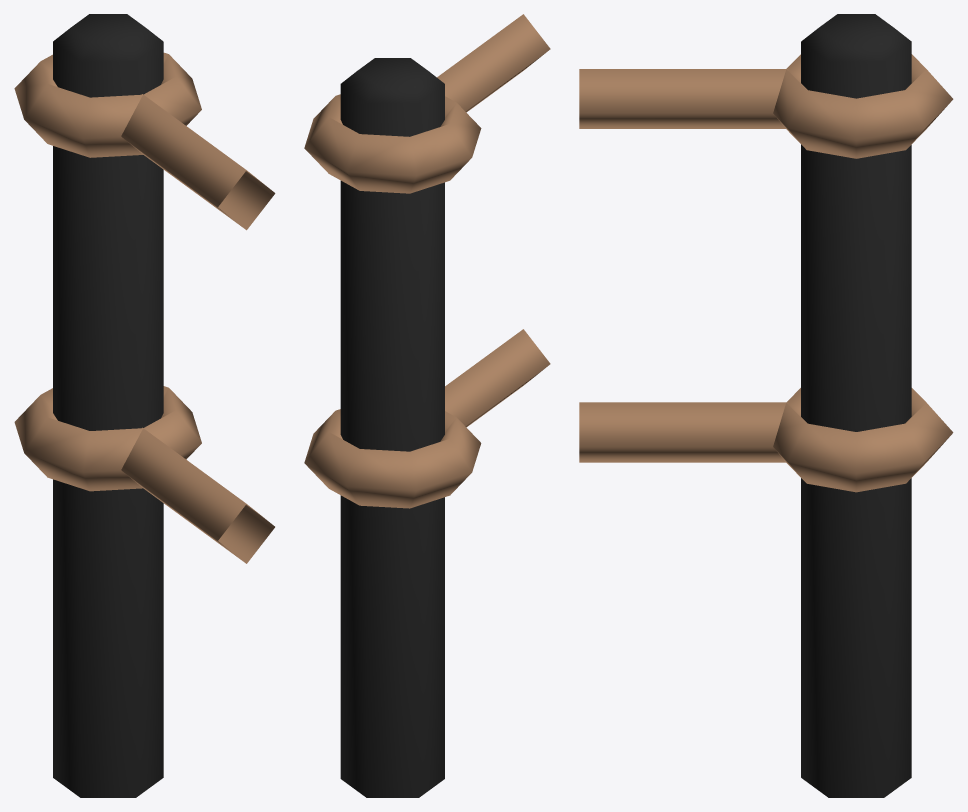
File: DI_077_78_railing_end.glb
3 renders of one model, left to right at view 1: azimuth 30°, elevation 25°; view 2: azimuth 150°, elevation 25°; view 3: azimuth 270°, elevation 25°, orthographic. The views are drawn at different scales.
Visible parts, largest first — view 1: Pole.002, Knots.002, Ropes.004; view 2: Pole.002, Knots.002, Ropes.004; view 3: Pole.002, Ropes.004, Knots.002.
Part boxes in pixels (x1=…): Pole.002: x1=53, y1=14, x2=163, y2=797; Knots.002: x1=14, y1=52, x2=201, y2=491; Ropes.004: x1=121, y1=94, x2=275, y2=563; Pole.002: x1=340, y1=58, x2=444, y2=797; Knots.002: x1=304, y1=94, x2=481, y2=508; Ropes.004: x1=437, y1=14, x2=550, y2=427; Pole.002: x1=801, y1=14, x2=911, y2=797; Ropes.004: x1=579, y1=69, x2=788, y2=462; Knots.002: x1=773, y1=54, x2=953, y2=492.
Bounding box in the file's own units: 0.263 × 1.12 × 0.5065.
